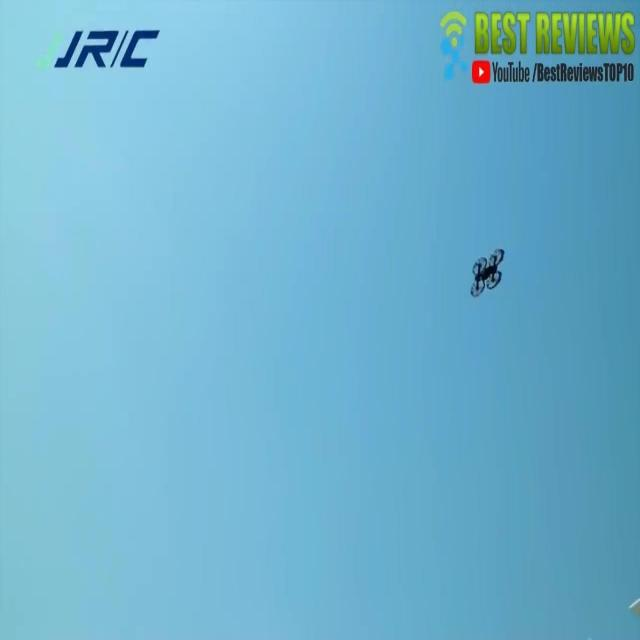UAV: (470, 249, 504, 298)
